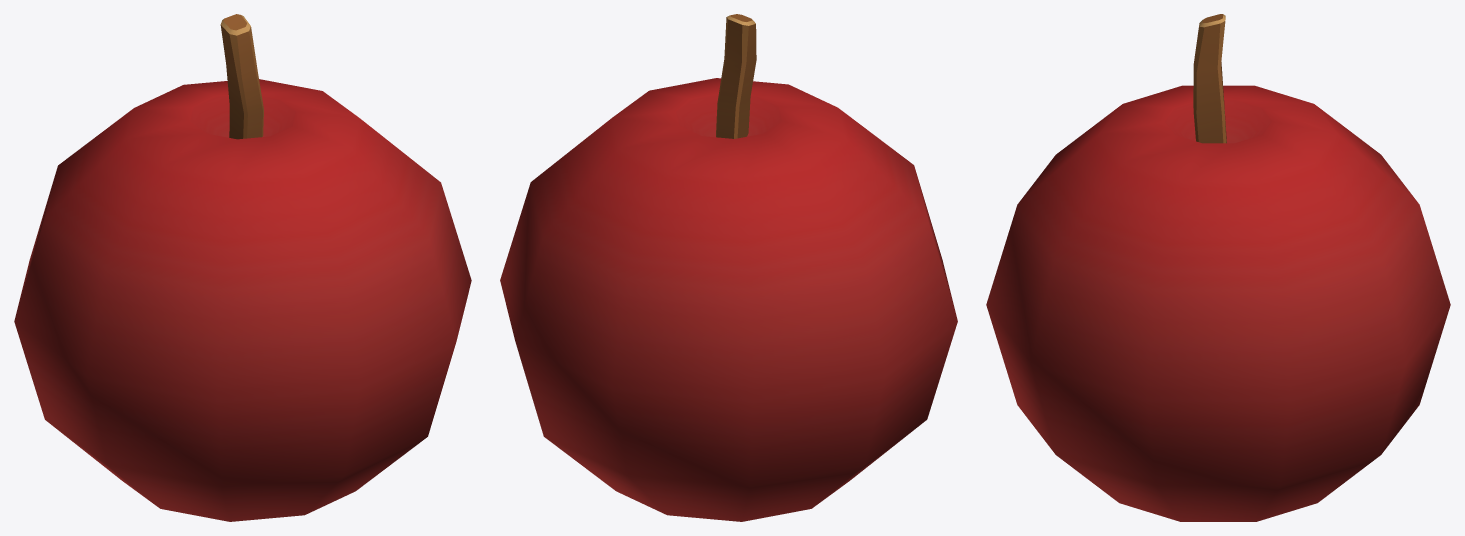
The model's file is Apple_1_C.glb.
3 views of the same model, side by side, from view 1: azimuth 30°, elevation 25°; view 2: azimuth 150°, elevation 25°; view 3: azimuth 270°, elevation 25° (orthographic).
Parts seen in each view (by area): view 1: Apple_1_C; view 2: Apple_1_C; view 3: Apple_1_C.
Boxes of the visible parts, x1=… form: Apple_1_C: x1=14, y1=14, x2=471, y2=521; Apple_1_C: x1=500, y1=14, x2=957, y2=521; Apple_1_C: x1=986, y1=14, x2=1450, y2=521.
Size of the model in its own units: 0.1278 by 0.1484 by 0.1344.
2 materials, 2 textured.
